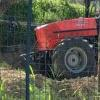tractors: (32, 0, 100, 79)
